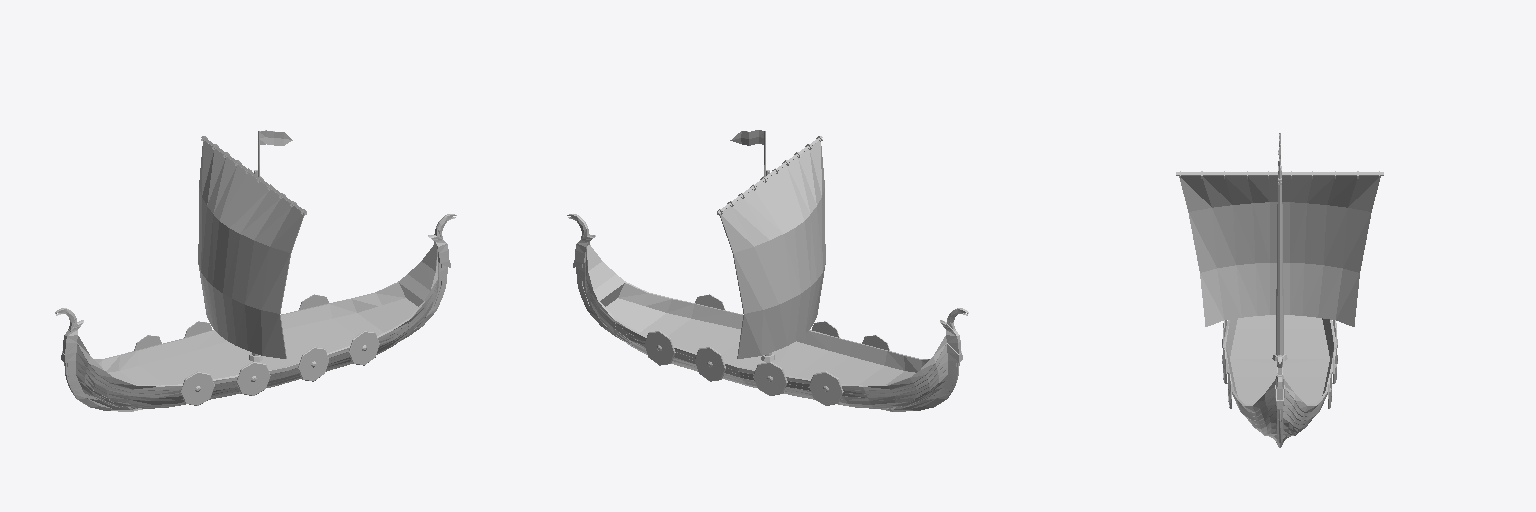
File: raider.obj
3 views of the same model, side by side, from view 1: azimuth 30°, elevation 25°; view 2: azimuth 150°, elevation 25°; view 3: azimuth 270°, elevation 25° (orthographic).
Visible parts, largest first — view 1: Body, Sail, Mast; view 2: Body, Sail, Mast; view 3: Sail, Body, Mast.
Boxes of the visible parts, x1,y1,x2,y2 form: Body: [55, 214, 456, 411]; Sail: [198, 130, 304, 358]; Mast: [201, 131, 306, 361]; Body: [567, 214, 968, 411]; Sail: [719, 130, 825, 358]; Mast: [717, 131, 822, 361]; Sail: [1179, 134, 1380, 326]; Body: [1222, 166, 1337, 447]; Mast: [1176, 133, 1383, 360].
Size of the model in its own units: 257 by 152 by 115.